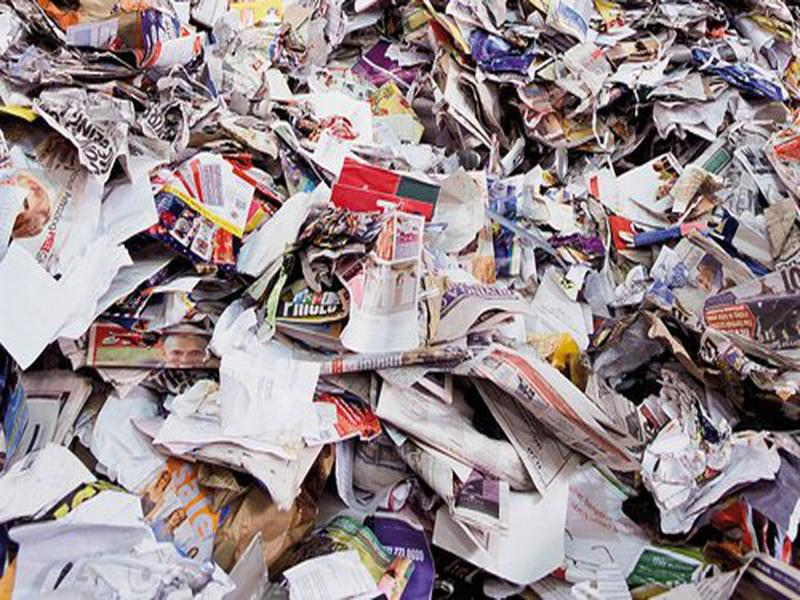paper: (536, 1, 800, 350), (1, 1, 531, 150), (253, 148, 536, 353), (361, 345, 640, 478), (140, 341, 351, 511), (632, 348, 800, 550), (1, 481, 245, 600), (412, 460, 584, 588)
